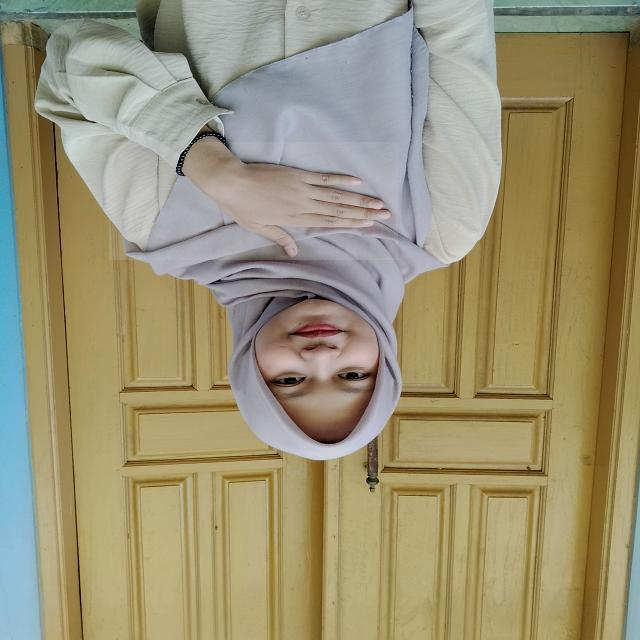tolong: (109, 142, 398, 260)
